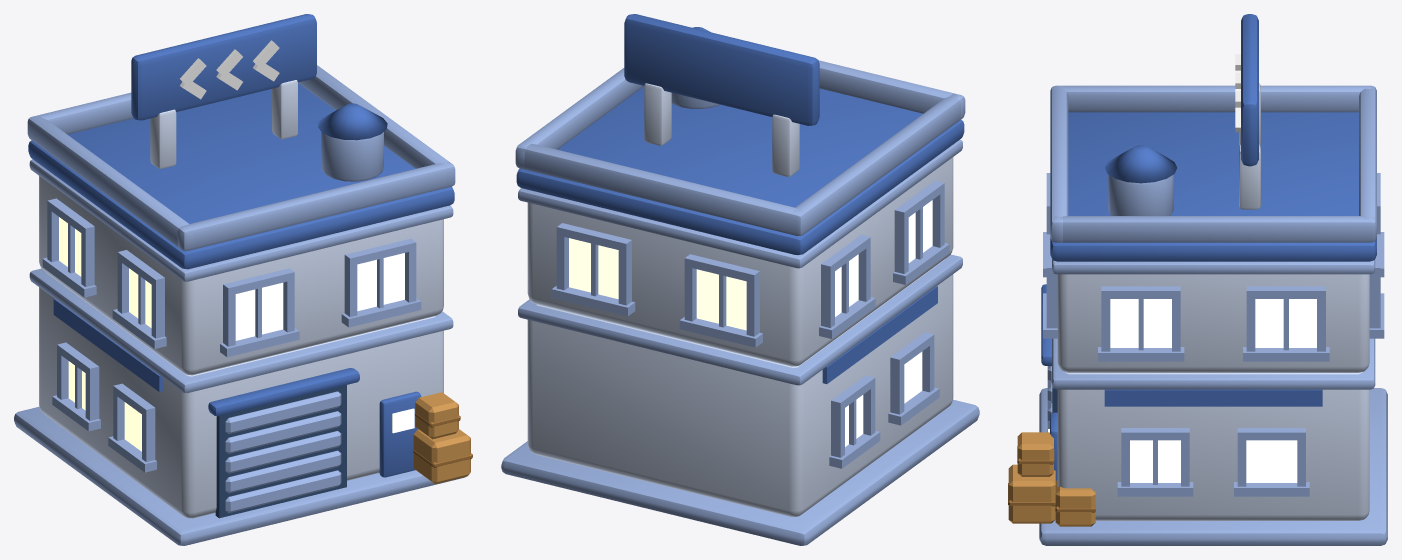
Rendered from bld_hayate.glb.
3 views of the same model, side by side, from view 1: azimuth 30°, elevation 25°; view 2: azimuth 150°, elevation 25°; view 3: azimuth 270°, elevation 25° (orthographic). The views are drawn at different scales.
Visible parts, largest first — view 1: Base, Roof, Floor; view 2: Base, Roof, Floor; view 3: Base, Roof, Floor.
Part boxes in pixels (x1,y1,x2,y2): Base: [14, 268, 472, 545]; Roof: [27, 14, 455, 269]; Floor: [29, 159, 453, 375]; Base: [501, 254, 979, 545]; Roof: [515, 14, 965, 255]; Floor: [518, 139, 962, 366]; Base: [1008, 284, 1387, 545]; Roof: [1050, 14, 1376, 261]; Floor: [1043, 173, 1384, 372].
Bounding box in the file's own units: 0.96 × 1.34 × 1.05.
